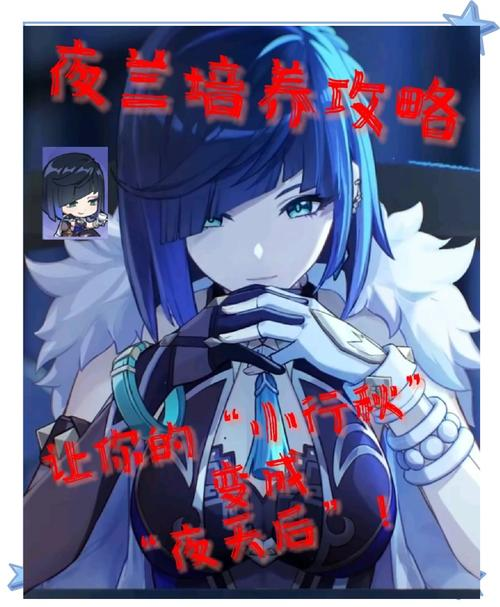夜兰: (26, 26, 476, 598)
